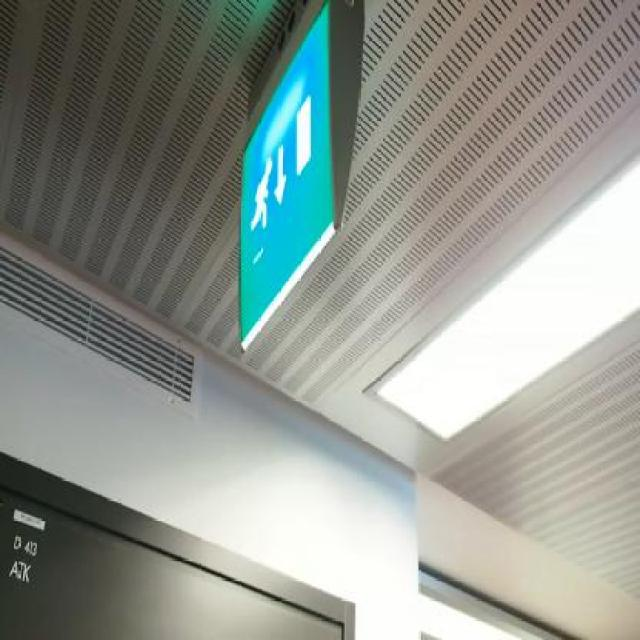emergency_exit: (235, 0, 352, 353)
